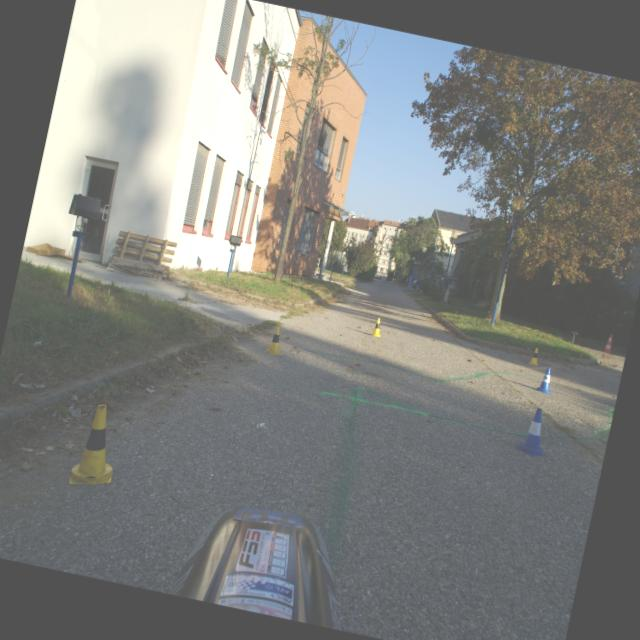blue_cone: (514, 404, 555, 458), (534, 365, 556, 394)
large_orange_cone: (602, 332, 615, 353)
yellow_cone: (68, 400, 125, 492), (264, 324, 288, 356), (370, 317, 385, 337), (528, 346, 540, 366)
